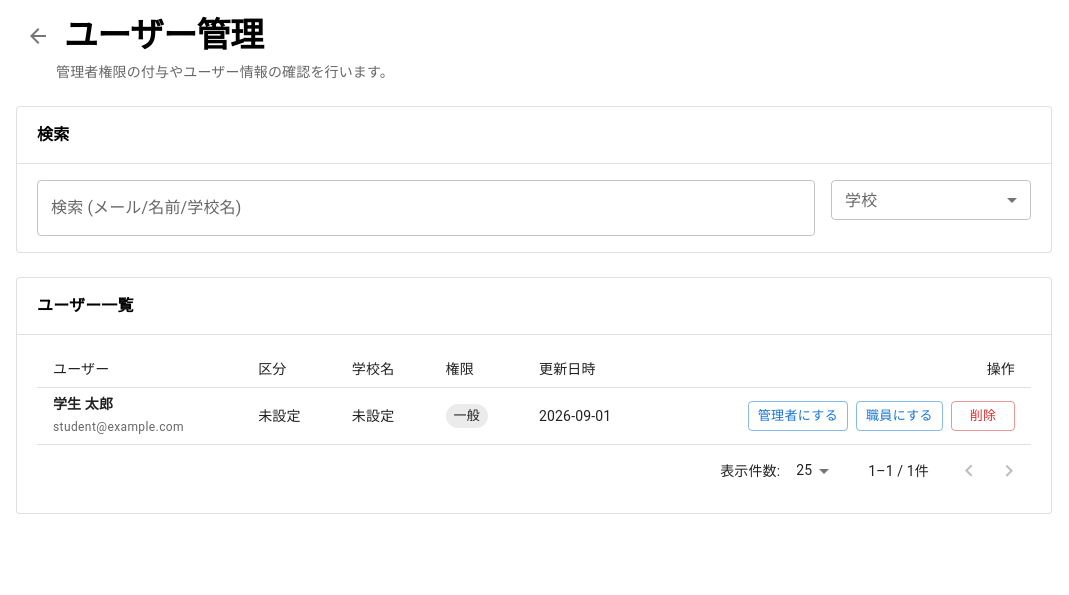
Scenario: 管理ユーザー画面 通信失敗時の挙動 (#1066) › 削除が通信エラーで失敗しても、エラーが表示されボタンが操作可能に戻る
Click the button "削除" at (983, 416), box [951,401,1015,431]
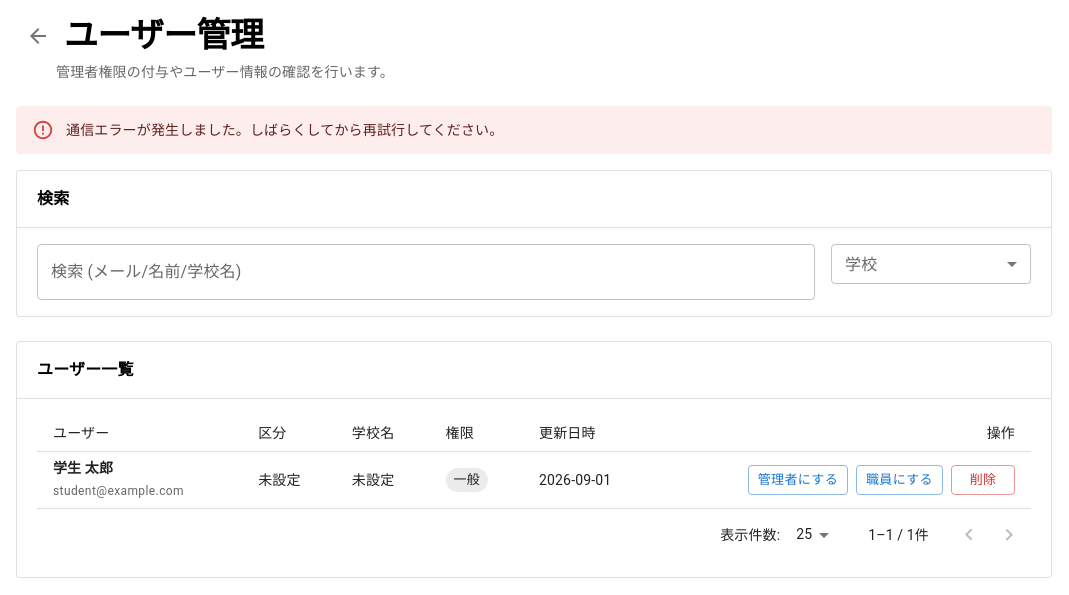
Expected: the button "削除" is enabled, [951,465,1015,495]
Now the text "通信エラーが発生しました。しばらくしてから再試行してください。" is shown, box [66,122,503,138]
